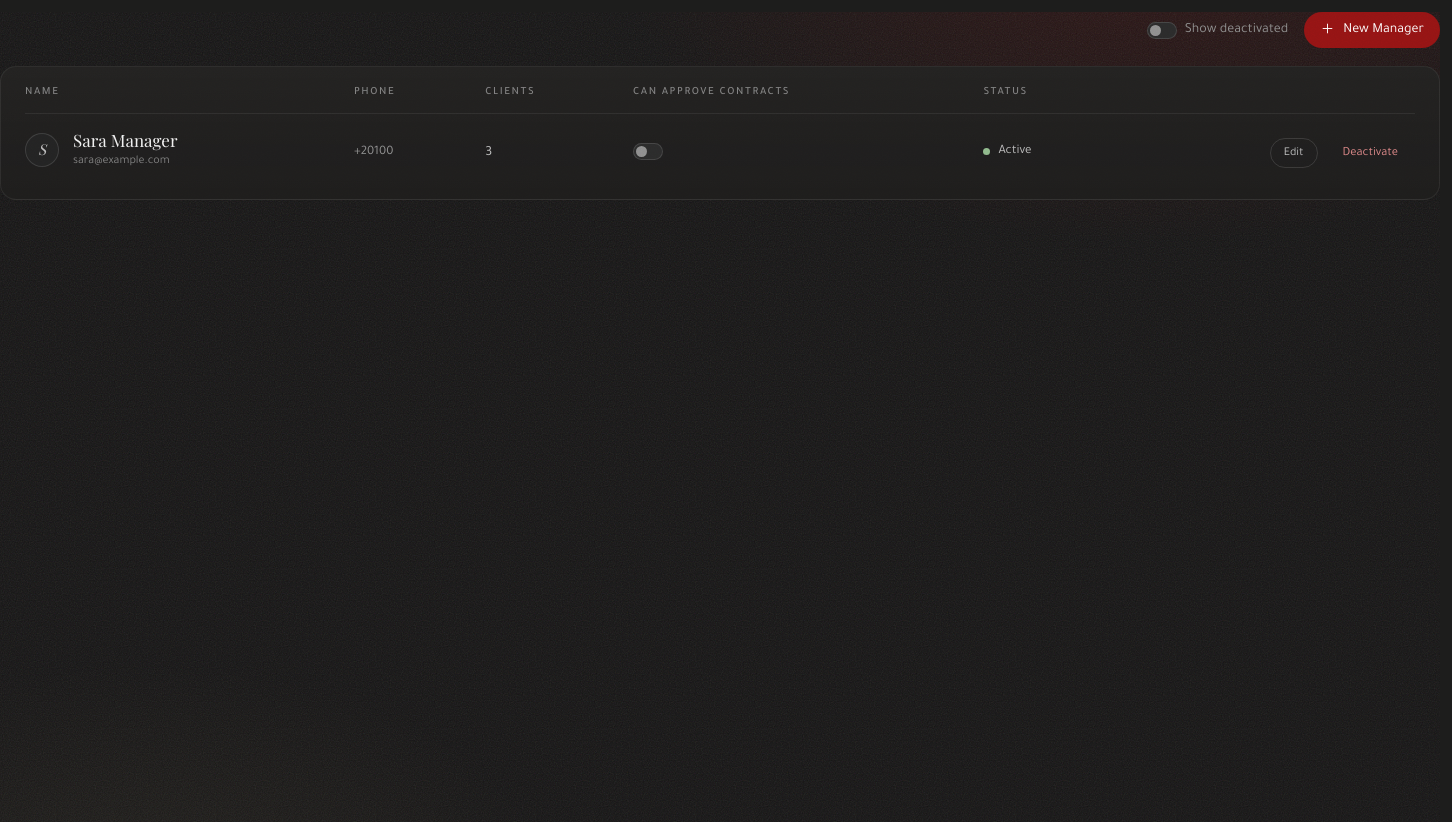
Test: AccountManagersPage › Luxe approve switch › rolls back and shows the error when the request fails
Click the switch named "Can approve contracts": [648, 152] box [633,143,663,160]
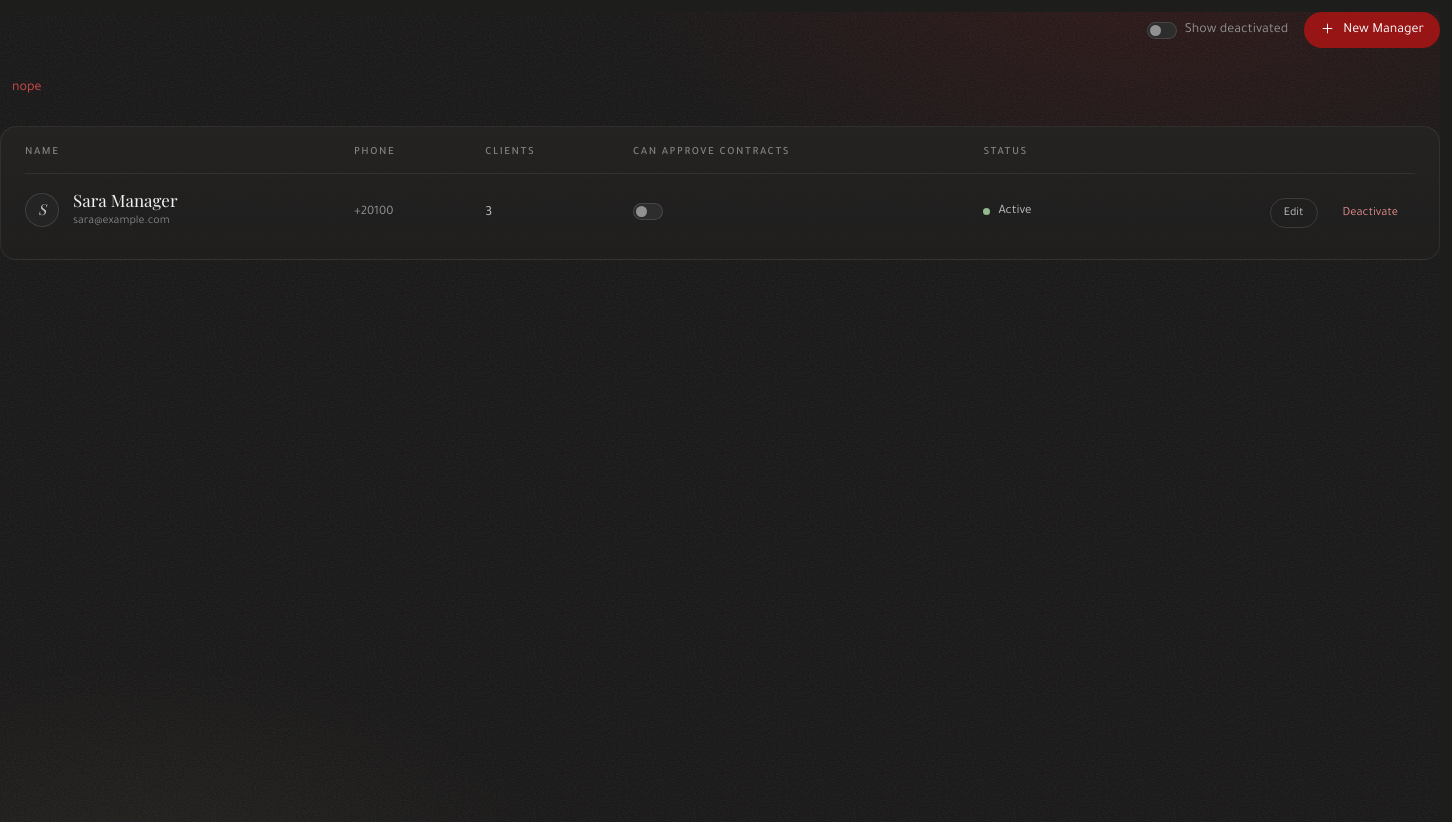
Expected: the text "nope" is shown, [12,81,41,95]
